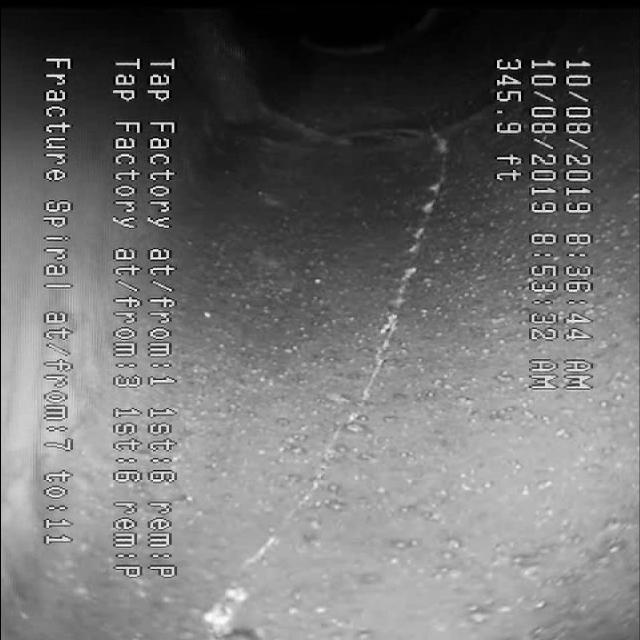Crack: (224, 145, 472, 617)
